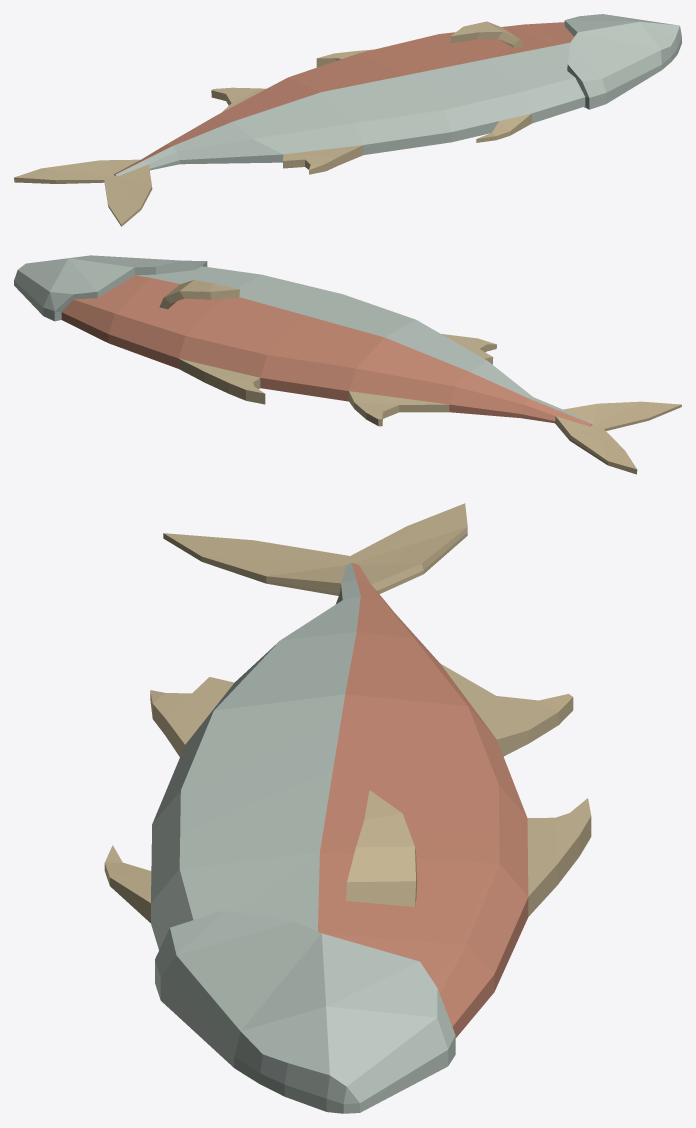
Rendered from food-Fish.glb.
3 views of the same model, one above another, from view 1: azimuth 30°, elevation 25°; view 2: azimuth 150°, elevation 25°; view 3: azimuth 270°, elevation 25° (orthographic). The views are drawn at different scales.
Visible parts, largest first — view 1: Fish; view 2: Fish; view 3: Fish.
Part boxes in pixels (x1=…): Fish: x1=14, y1=14, x2=681, y2=226; Fish: x1=14, y1=255, x2=681, y2=474; Fish: x1=104, y1=503, x2=591, y2=1113.
Bounding box in the file's own units: 3.2 × 0.303 × 1.06.
